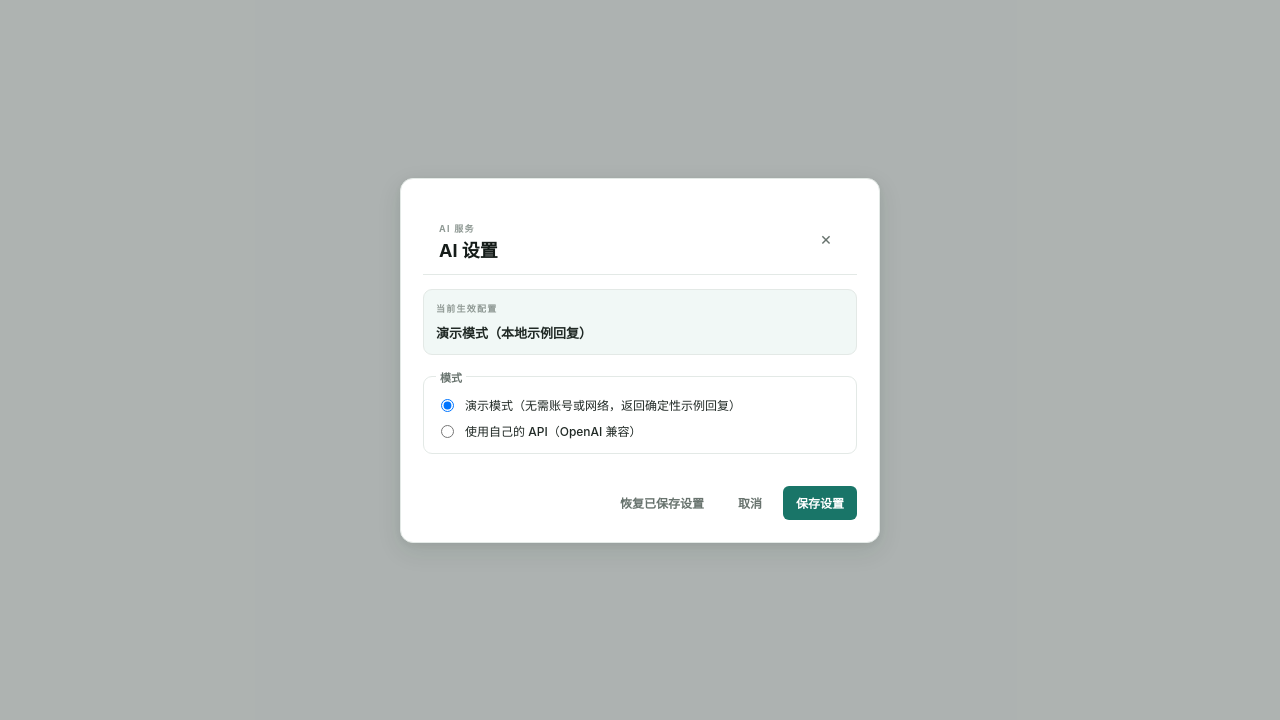
AiSettingsDialog › saves a compatible configuration and reports immediate effect
Expected: the radio button labelled "演示模式（无需账号或网络，返回确定性示例回复）" is shown, [441,398,454,412]
Click the radio button labelled "使用自己的 API（OpenAI 兼容）".
click(448, 431)  # box [441,424,454,438]
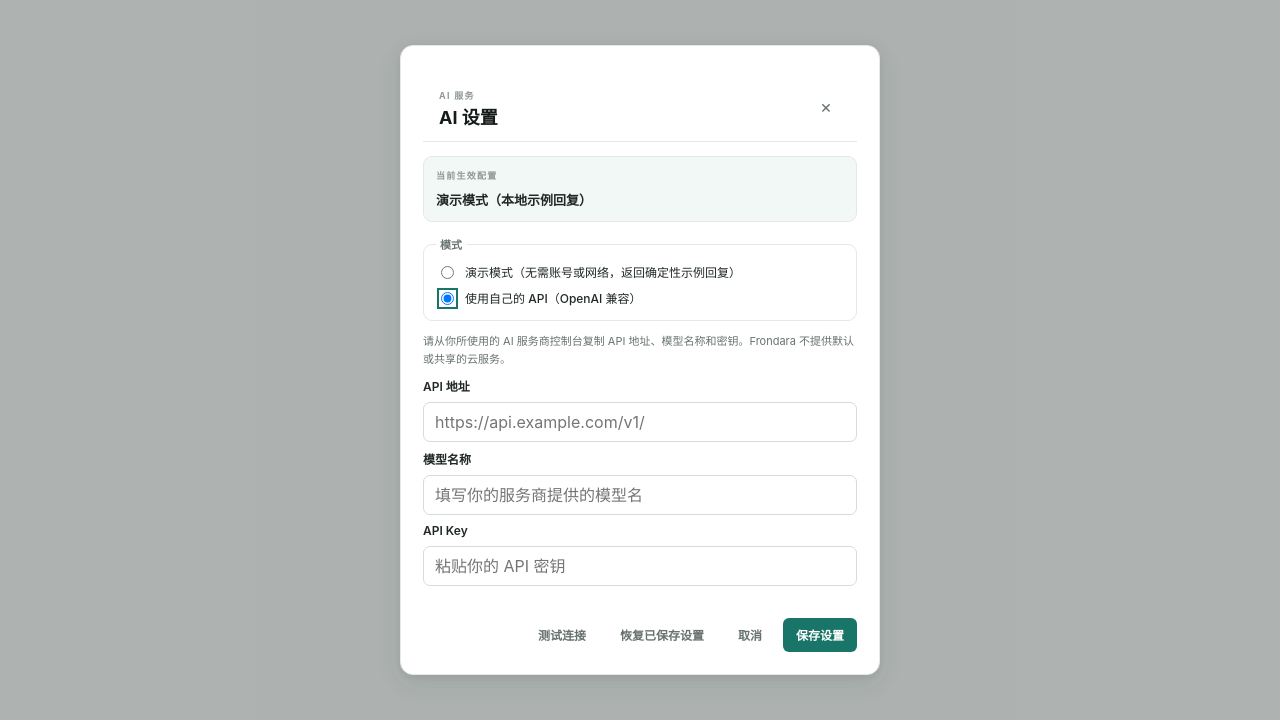
Type "https://api.example.com/v1" into the field labelled "API 地址".
click(640, 422); type("https://api.example.com/v1")  # box [423,402,857,442]
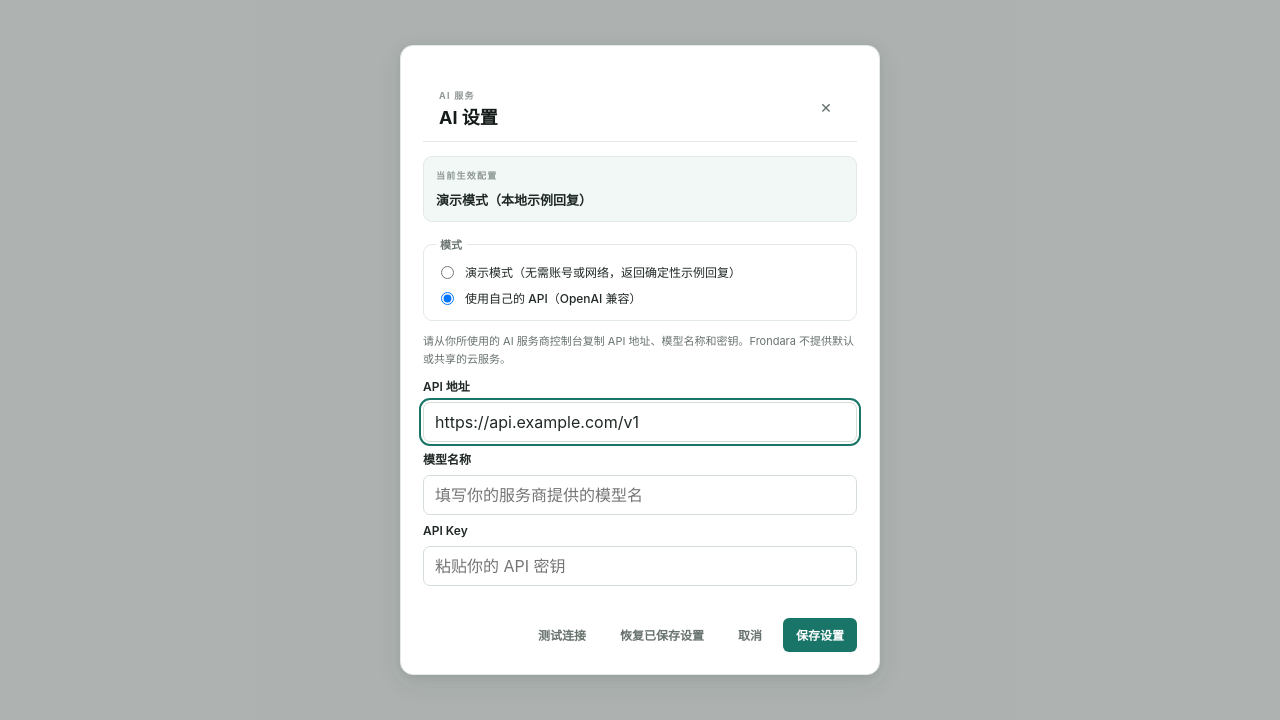
Type "demo-model" into the field labelled "模型名称".
click(640, 495); type("demo-model")  # box [423,475,857,515]
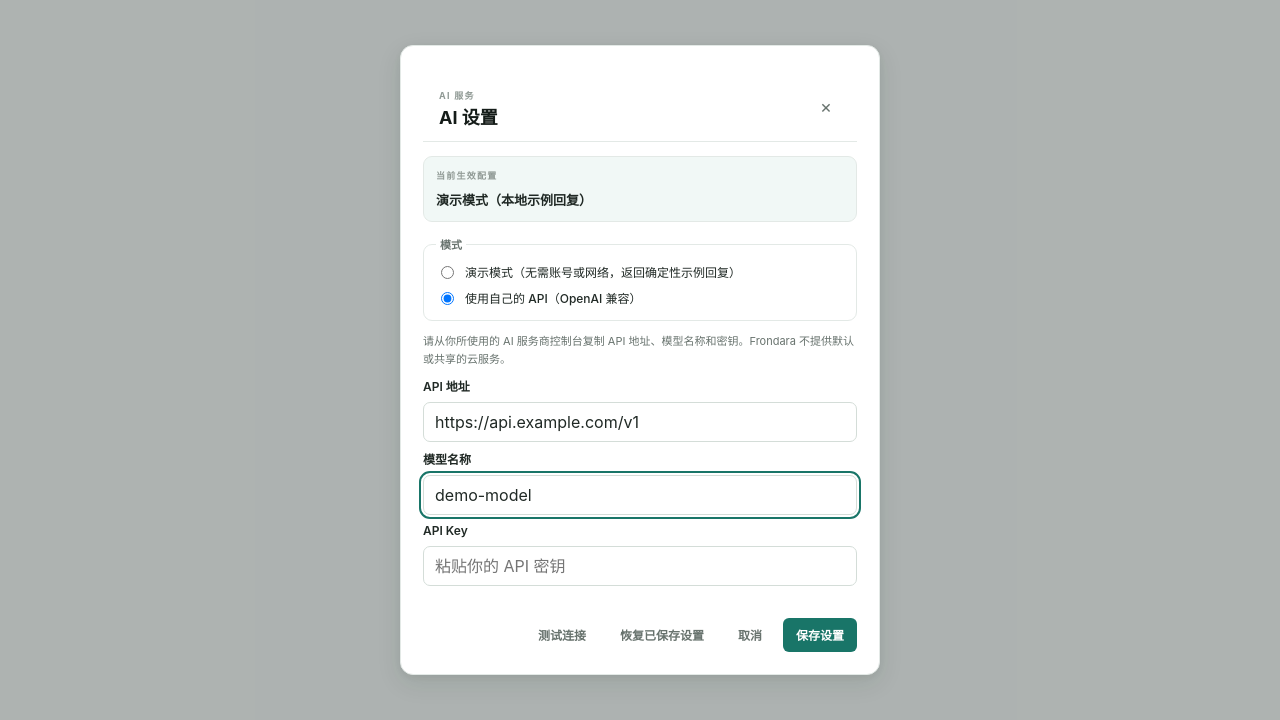
Type "k-secret" into the password field labelled "API Key".
click(640, 566); type("k-secret")  # box [423,546,857,586]
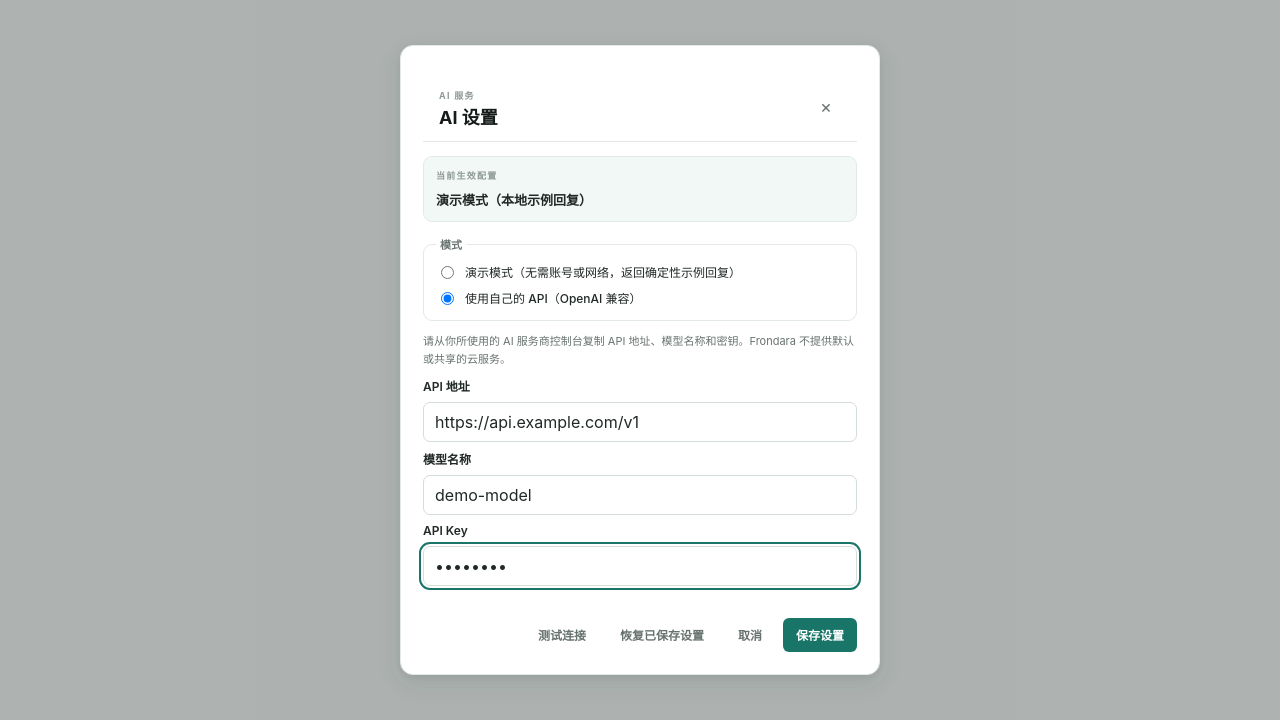
Click the button "保存设置".
click(820, 635)  # box [783,618,857,652]
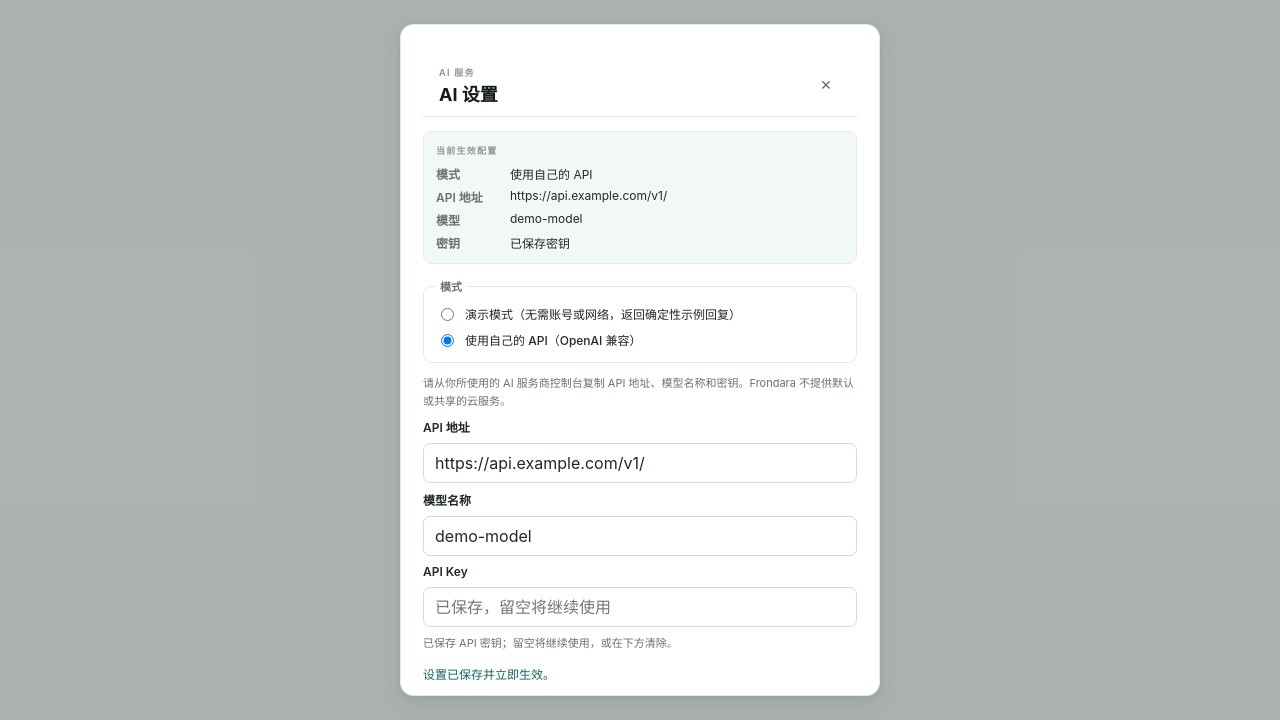
Expected: the text "设置已保存并立即生效。" is shown, [423,667,555,682]
